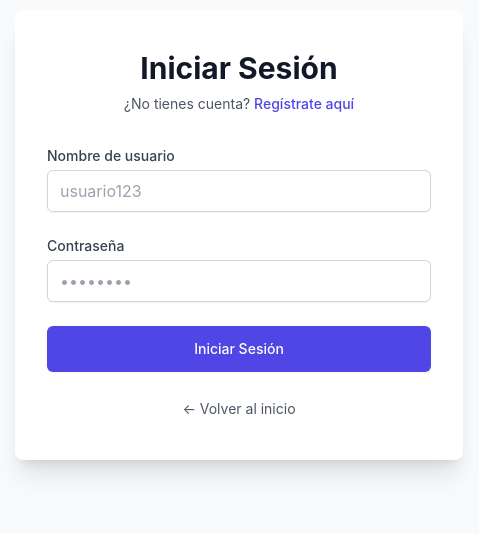
Test: LoginView › debe mostrar mensaje de error cuando el login falla
This screenshot has width=479, height=533.
Step 1. Type "wronguser" into the field with id "username" → (239, 191), box [47,170,431,212]
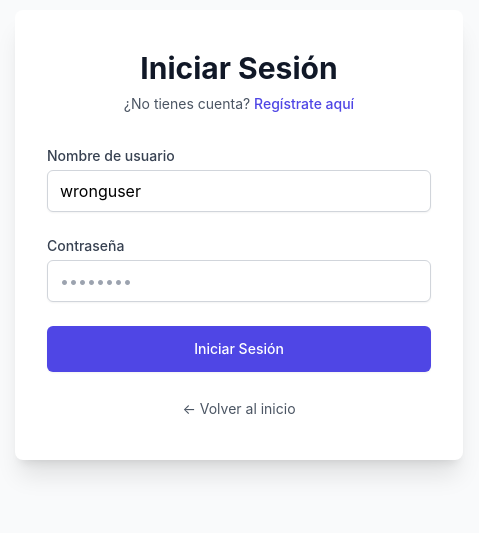
Step 2. Type "wrongpass" into the password field labelled "Contraseña" → (239, 281), box [47,260,431,302]
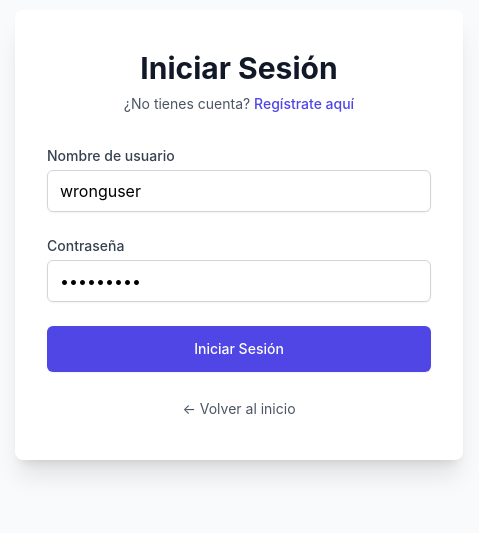
Step 3. Submit the form, box [47,146,431,372]
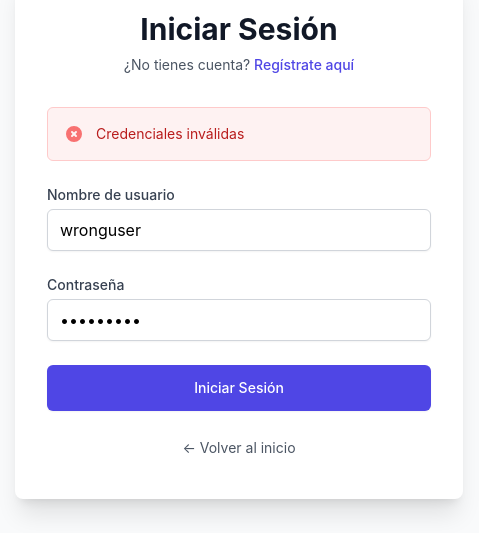
Check: the text "Credenciales inválidas" is shown, box [96,124,244,144]
